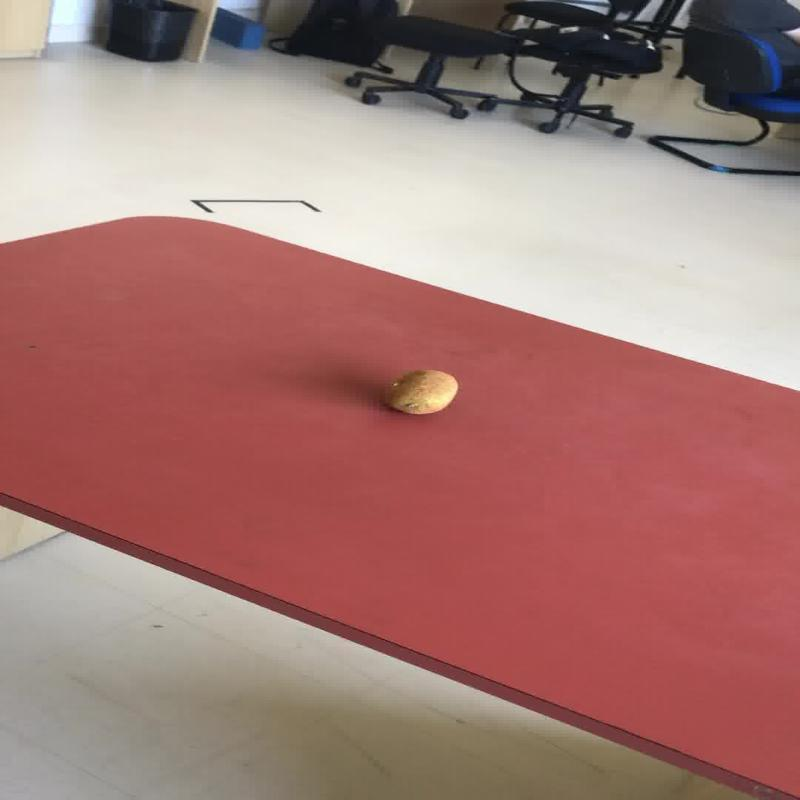kiwi: (386, 368, 458, 414)
